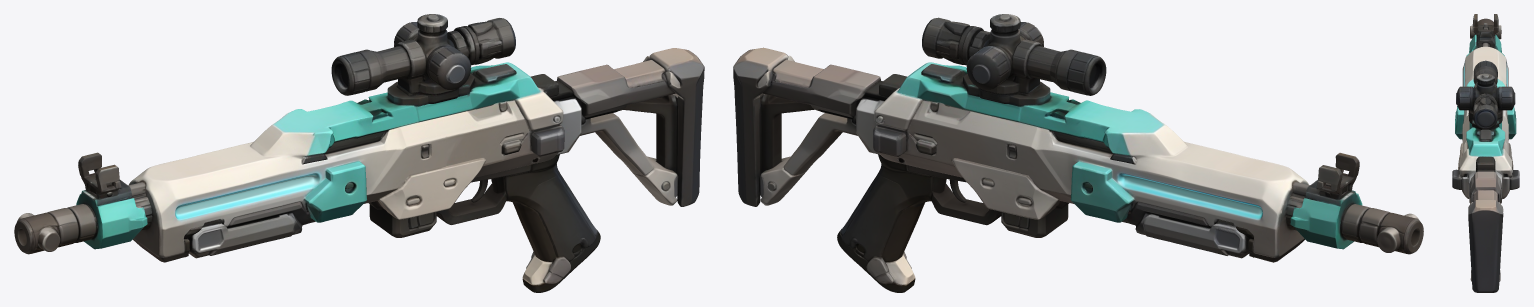
The model's file is Rifle.fbx.
3 renders of one model, left to right at view 1: azimuth 30°, elevation 25°; view 2: azimuth 150°, elevation 25°; view 3: azimuth 270°, elevation 25°, orthographic. The views are drawn at different scales.
Visible parts, largest first — view 1: tripo_node_c0a45e5c; view 2: tripo_node_c0a45e5c; view 3: tripo_node_c0a45e5c.
Part boxes in pixels (x1,y1,x2,y2): tripo_node_c0a45e5c: (14, 14, 704, 292); tripo_node_c0a45e5c: (733, 14, 1423, 292); tripo_node_c0a45e5c: (1452, 14, 1519, 292).
Size of the model in its own units: 0.9789 by 0.4143 by 0.143.
Materials: 1 (1 with a texture image).
